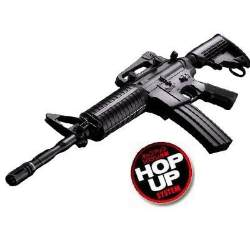rifle: (7, 32, 243, 202)
